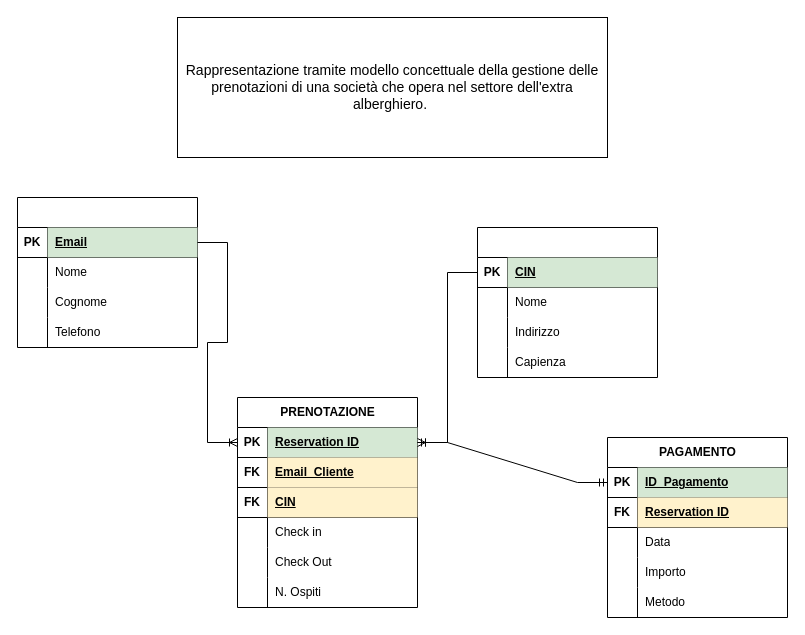
The diagram is 805 pixels wide and 635 high, and some of its shapes have lost their labels. Here are the shapes that lost their labels. From the top down, the box of each, then its label:
(16, 196, 198, 348): CLIENTE
(476, 226, 658, 378): Alloggio
